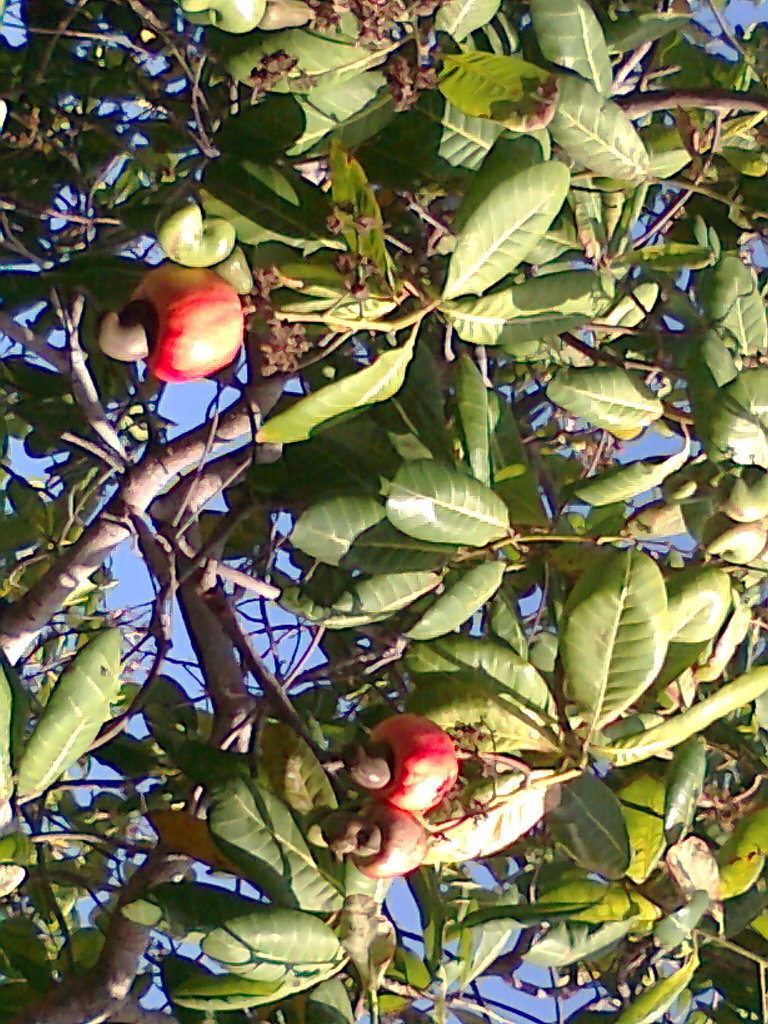Apple: (140, 242, 249, 385)
